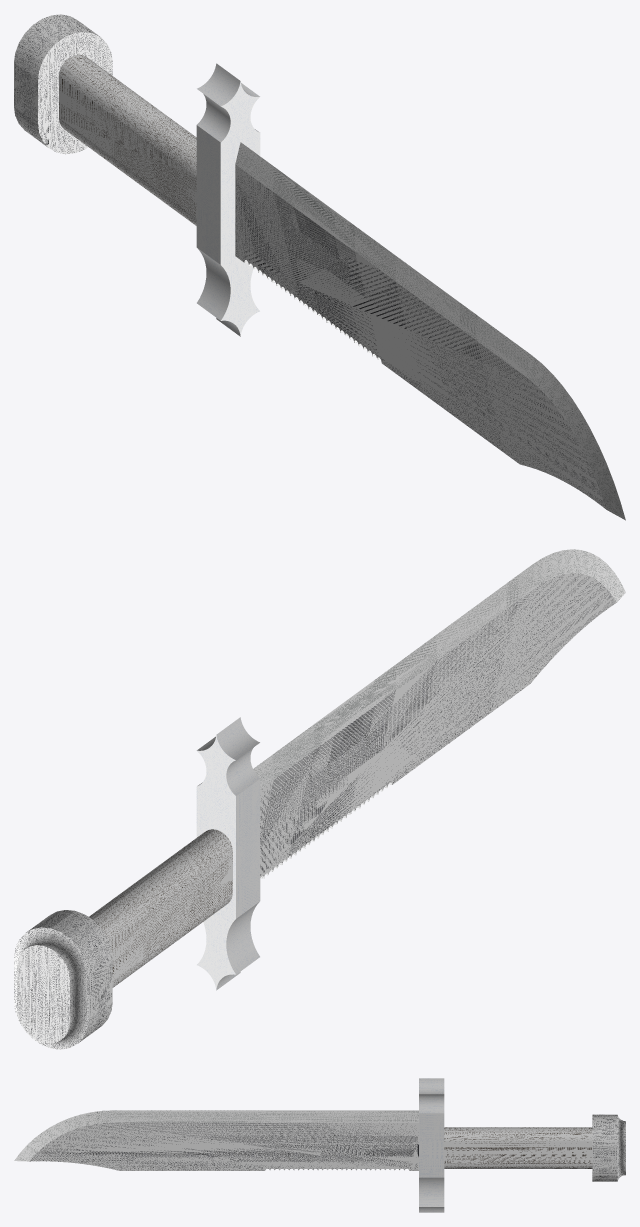
Rendered from model_scale.obj.
3 renders of one model, top to bottom at view 1: azimuth 30°, elevation 25°; view 2: azimuth 150°, elevation 25°; view 3: azimuth 270°, elevation 25°, orthographic. The views are drawn at different scales.
Visible parts, largest first — view 1: mesh1_mesh1-geometry; view 2: mesh1_mesh1-geometry; view 3: mesh1_mesh1-geometry.
Boxes of the visible parts, <box> form: mesh1_mesh1-geometry: <box>14,14,625,520</box>; mesh1_mesh1-geometry: <box>14,549,625,1049</box>; mesh1_mesh1-geometry: <box>14,1078,625,1212</box>.
Size of the model in its own units: 0.0151 by 0.0494 by 0.2039.
